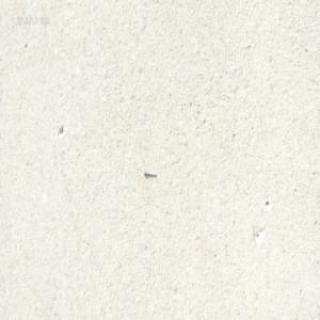Nailtrack_idkeyframe: (142, 168, 155, 175)
